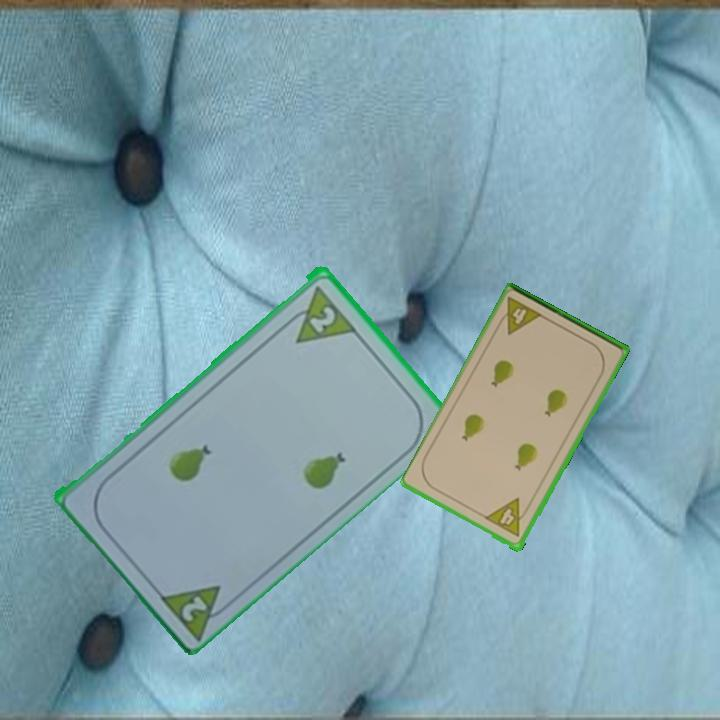2p: (279, 280, 358, 346), (177, 591, 211, 624)
4p: (493, 293, 545, 338), (483, 495, 533, 540)
